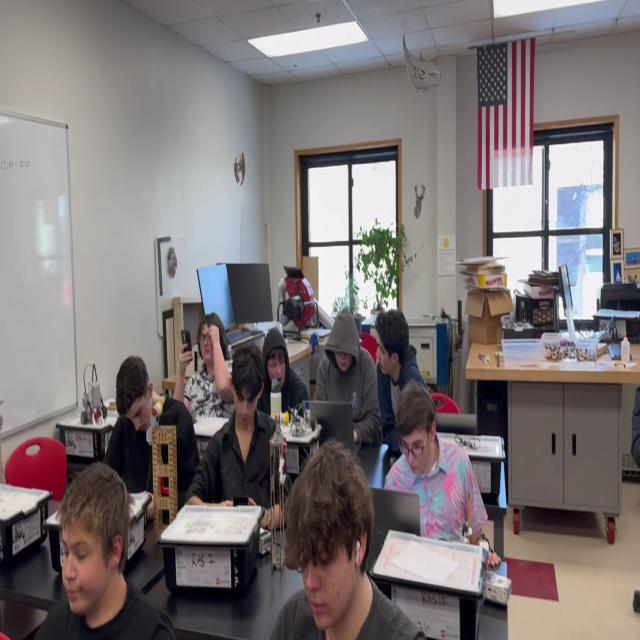pen: (230, 493, 248, 529), (181, 329, 193, 362)
